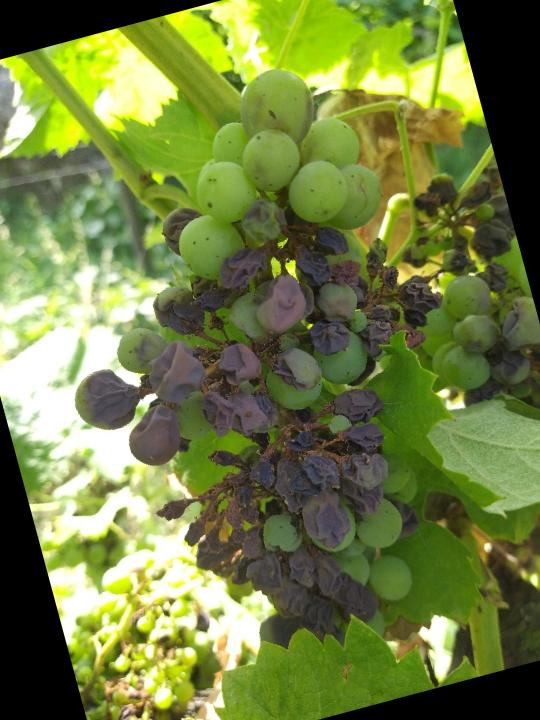grape: (1, 36, 528, 701)
